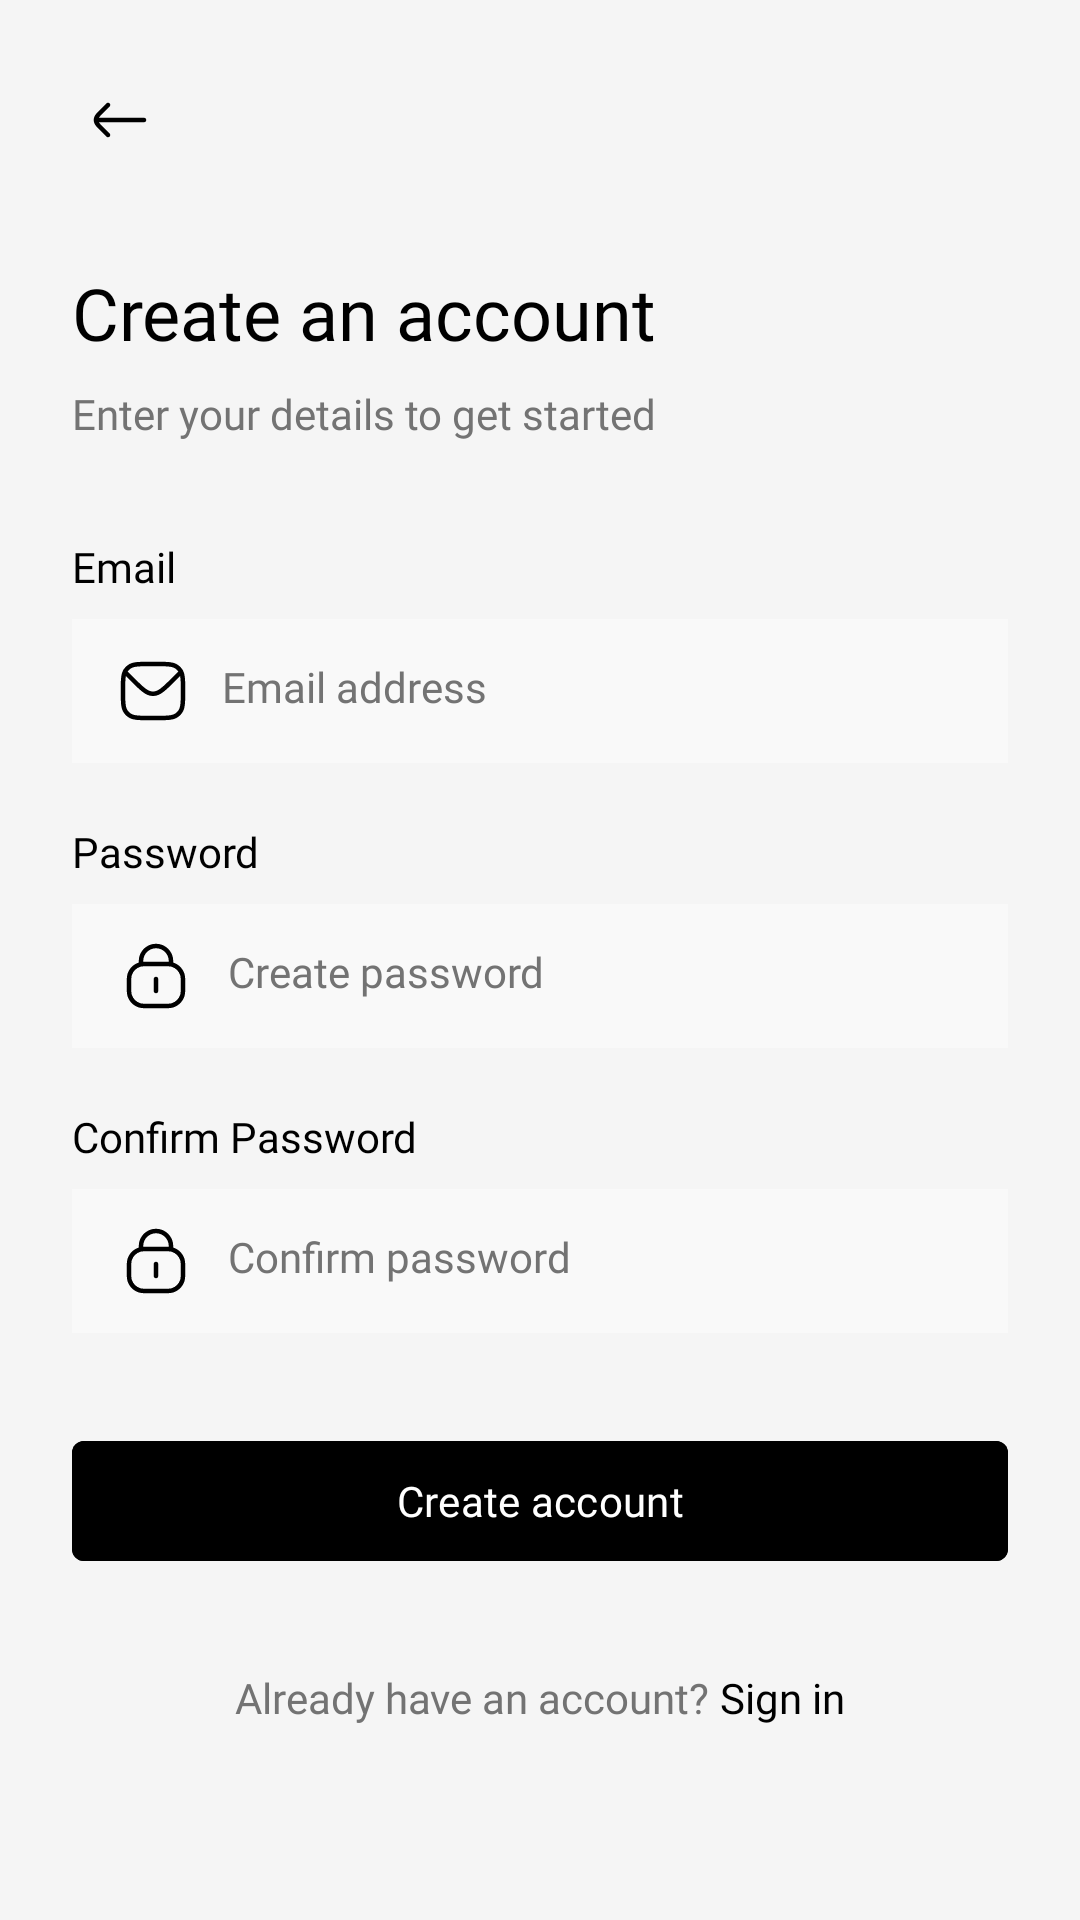

Icon click points for this 1080×1920 phone screenshot, format (x=x, y=y):
Back: (x=120, y=120)
